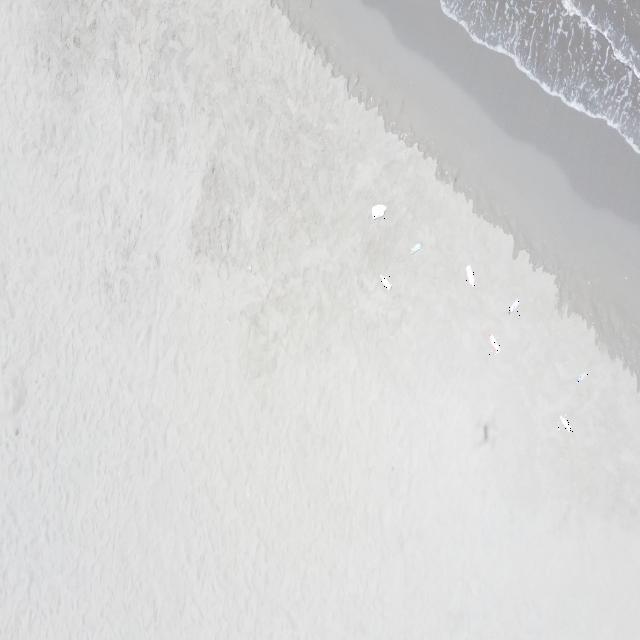Garbage: (372, 203, 386, 219), (488, 333, 499, 352), (560, 415, 572, 431), (507, 299, 519, 312), (466, 264, 473, 286), (380, 275, 391, 288), (409, 241, 420, 253), (576, 372, 587, 382), (557, 426, 559, 427)
